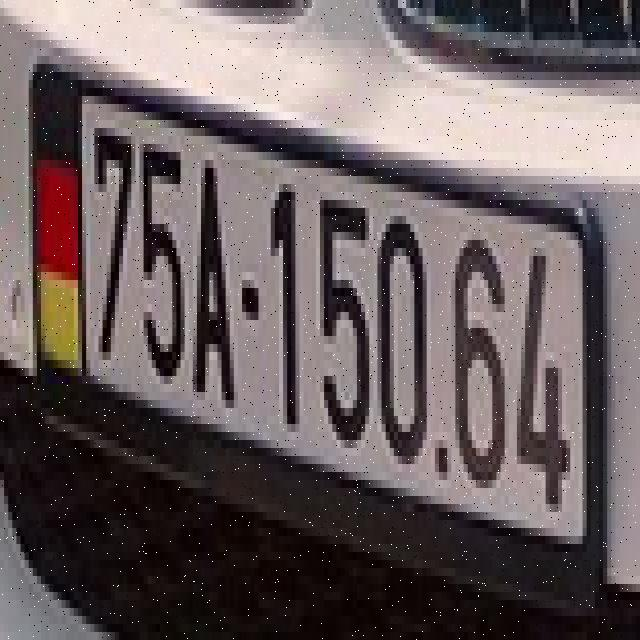0: (374, 208, 431, 476)
1: (268, 174, 308, 436)
4: (516, 239, 573, 512)
5: (316, 188, 374, 466), (137, 137, 191, 391)
6: (450, 232, 512, 495)
7: (89, 117, 138, 371)
A: (190, 153, 244, 416)
